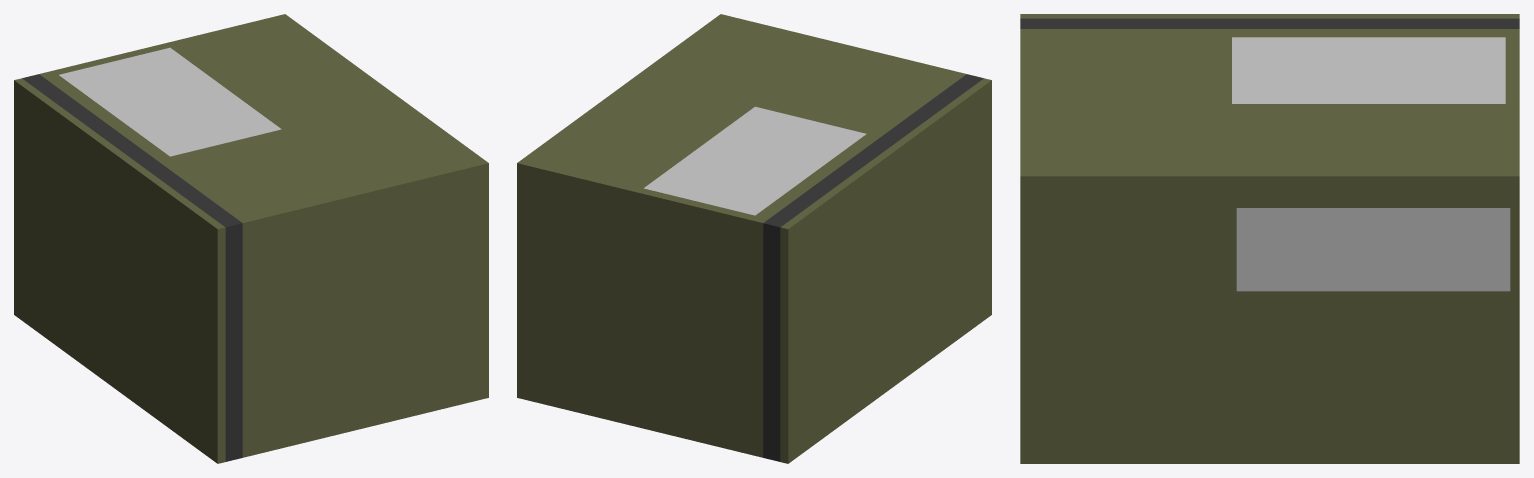
The model's file is model_small_box.fbx.
3 views of the same model, side by side, from view 1: azimuth 30°, elevation 25°; view 2: azimuth 150°, elevation 25°; view 3: azimuth 270°, elevation 25° (orthographic). The views are drawn at different scales.
Parts seen in each view (by area): view 1: model_small_box; view 2: model_small_box; view 3: model_small_box.
Boxes of the visible parts, box(x1,y1,x2,y2) form: model_small_box: box(14, 14, 488, 463); model_small_box: box(517, 14, 991, 463); model_small_box: box(1020, 14, 1519, 463).
Size of the model in its own units: 18.03 by 14.91 by 23.46.
Materials: 1 (1 with a texture image).
